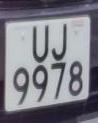7: (50, 58, 70, 105)
8: (67, 55, 86, 102)
9: (11, 58, 33, 111), (30, 59, 53, 108)
J: (50, 21, 70, 64)
U: (29, 22, 53, 66)
